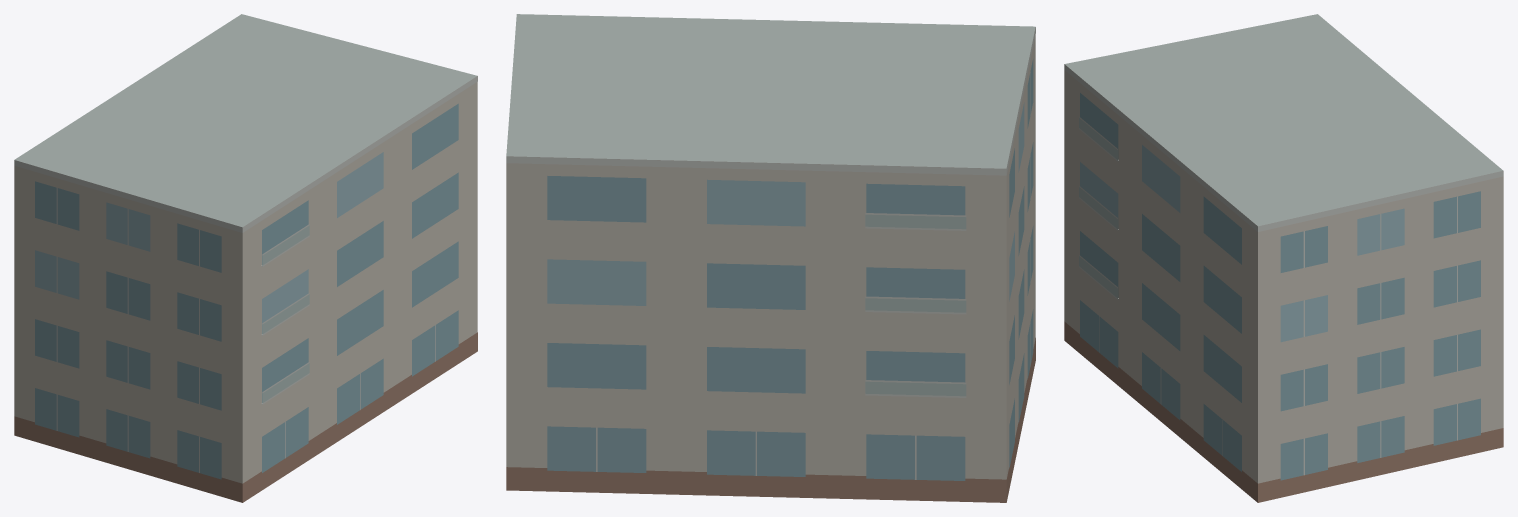
Rendered from survey-upis-32822720.glb.
3 renders of one model, left to right at view 1: azimuth 30°, elevation 25°; view 2: azimuth 150°, elevation 25°; view 3: azimuth 270°, elevation 25°, orthographic. The views are drawn at different scales.
Visible parts, largest first — view 1: survey-upis-32822720.tmp; view 2: survey-upis-32822720.tmp; view 3: survey-upis-32822720.tmp.
Boxes of the visible parts, left/top/right/bottom form: survey-upis-32822720.tmp: left=14, top=14, right=477, bottom=502; survey-upis-32822720.tmp: left=506, top=14, right=1035, bottom=502; survey-upis-32822720.tmp: left=1064, top=14, right=1503, bottom=502.
Size of the model in its own units: 19.45 by 11.8 by 16.99.
